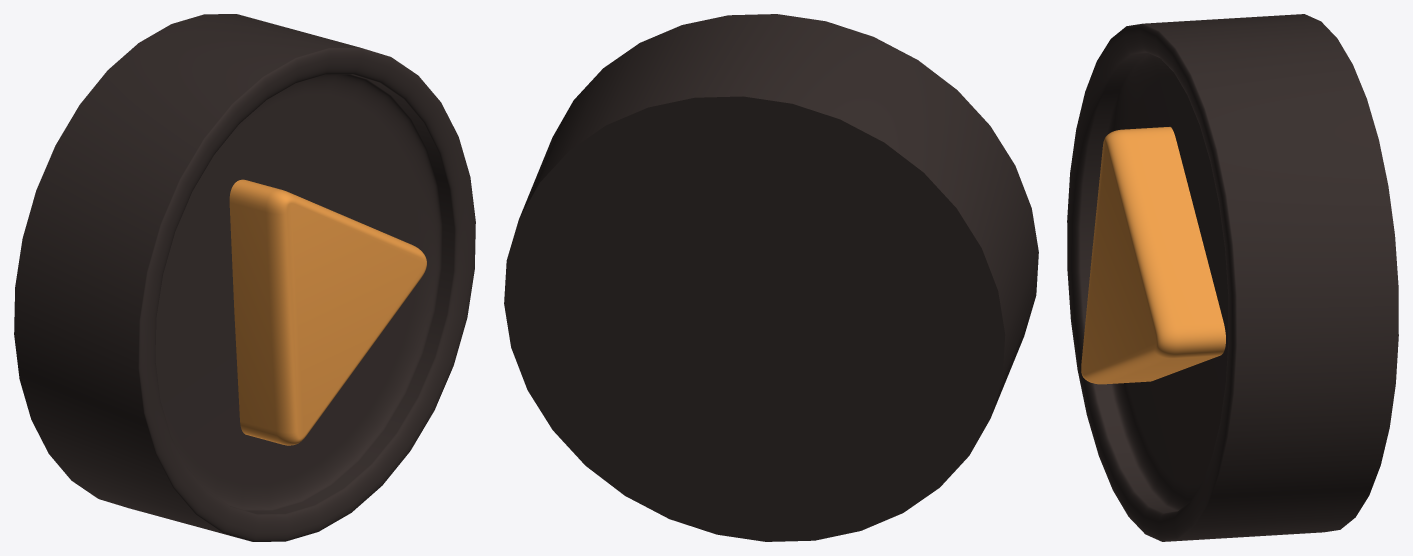
3 renders of one model, left to right at view 1: azimuth 30°, elevation 25°; view 2: azimuth 150°, elevation 25°; view 3: azimuth 270°, elevation 25°, orthographic. The views are drawn at different scales.
Visible parts, largest first — view 1: Cylinder.069; view 2: Cylinder.069; view 3: Cylinder.069.
Part boxes in pixels (left/top/right/bottom): Cylinder.069: left=14, top=14, right=475, bottom=541; Cylinder.069: left=504, top=14, right=1038, bottom=541; Cylinder.069: left=1067, top=14, right=1398, bottom=541.
Bounding box in the file's own units: 2.92 × 2.84 × 1.77.
